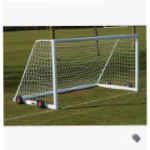goals: (14, 33, 141, 114)
